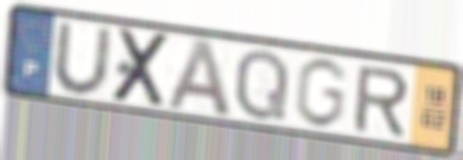A: (163, 36, 235, 120)
G: (291, 56, 351, 131)
Q: (231, 46, 292, 123)
R: (351, 64, 412, 138)
U: (50, 20, 115, 99)
X: (107, 26, 175, 110)
